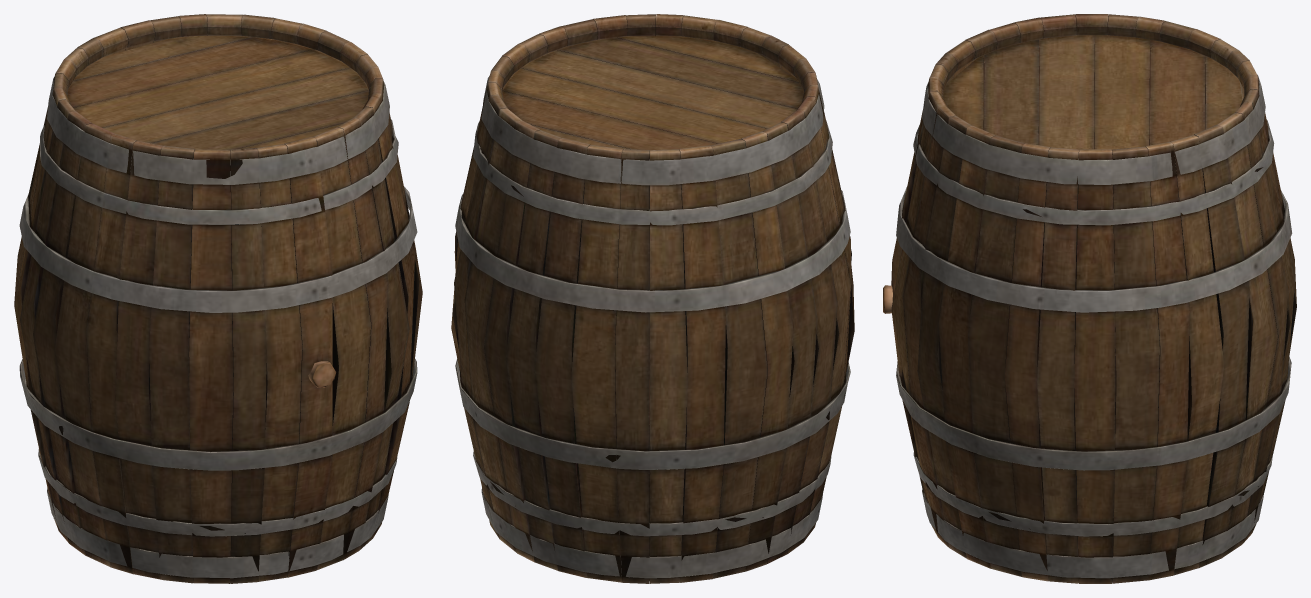
Rendered from wine_barrel_01_lod2.glb.
The picture shows the model from 3 angles, left to right: view 1: azimuth 30°, elevation 25°; view 2: azimuth 150°, elevation 25°; view 3: azimuth 270°, elevation 25°; orthographic projection.
Visible parts, largest first — view 1: wine_barrel_01, wine_barrel_01_Lid, wine_barrel_01_bung; view 2: wine_barrel_01, wine_barrel_01_Lid; view 3: wine_barrel_01, wine_barrel_01_Lid.
Part boxes in pixels (left/top/right/bottom): wine_barrel_01: left=14, top=14, right=422, bottom=583; wine_barrel_01_Lid: left=67, top=36, right=368, bottom=149; wine_barrel_01_bung: left=308, top=361, right=336, bottom=387; wine_barrel_01: left=451, top=14, right=854, bottom=583; wine_barrel_01_Lid: left=502, top=36, right=803, bottom=150; wine_barrel_01: left=891, top=14, right=1296, bottom=583; wine_barrel_01_Lid: left=943, top=35, right=1244, bottom=149.
Bounding box in the file's own units: 0.7419 × 0.8695 × 0.756.
1 material, 1 textured.
